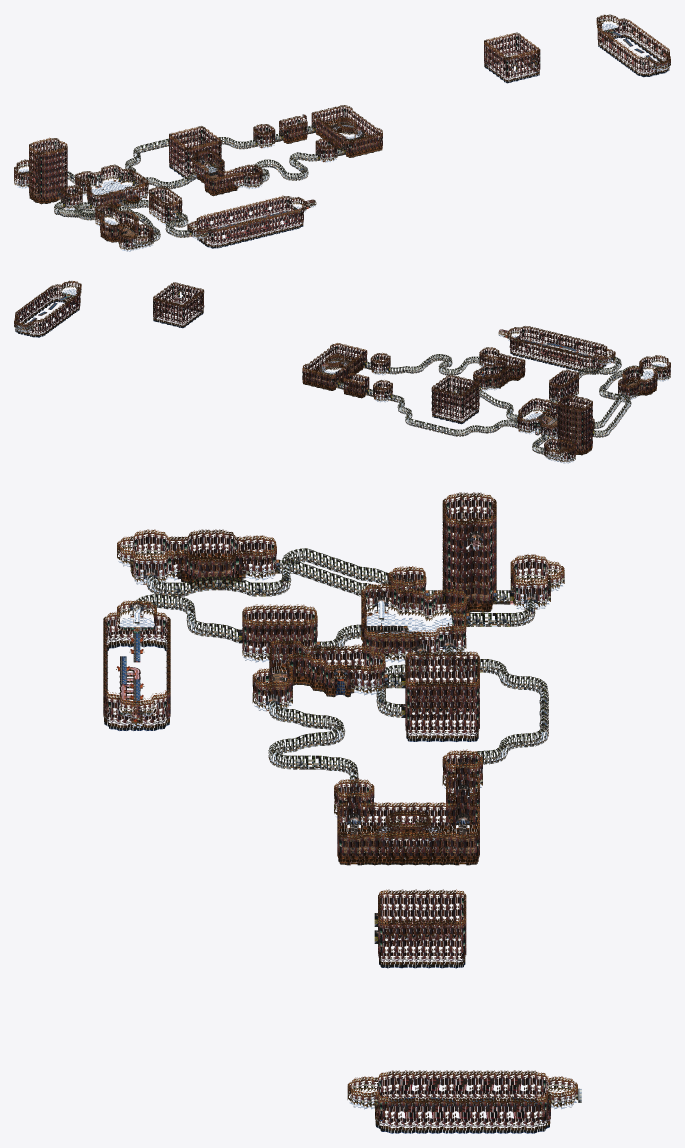
The picture shows the model from 3 angles, top to bottom: view 1: azimuth 30°, elevation 25°; view 2: azimuth 150°, elevation 25°; view 3: azimuth 270°, elevation 25°; orthographic projection. The views are drawn at different scales.
Bounding box in the file's own units: 380 × 33 × 141.
